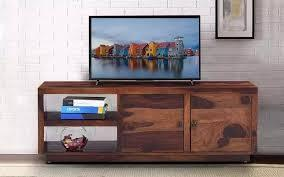TV: (87, 15, 203, 84)
console: (35, 80, 262, 166)
